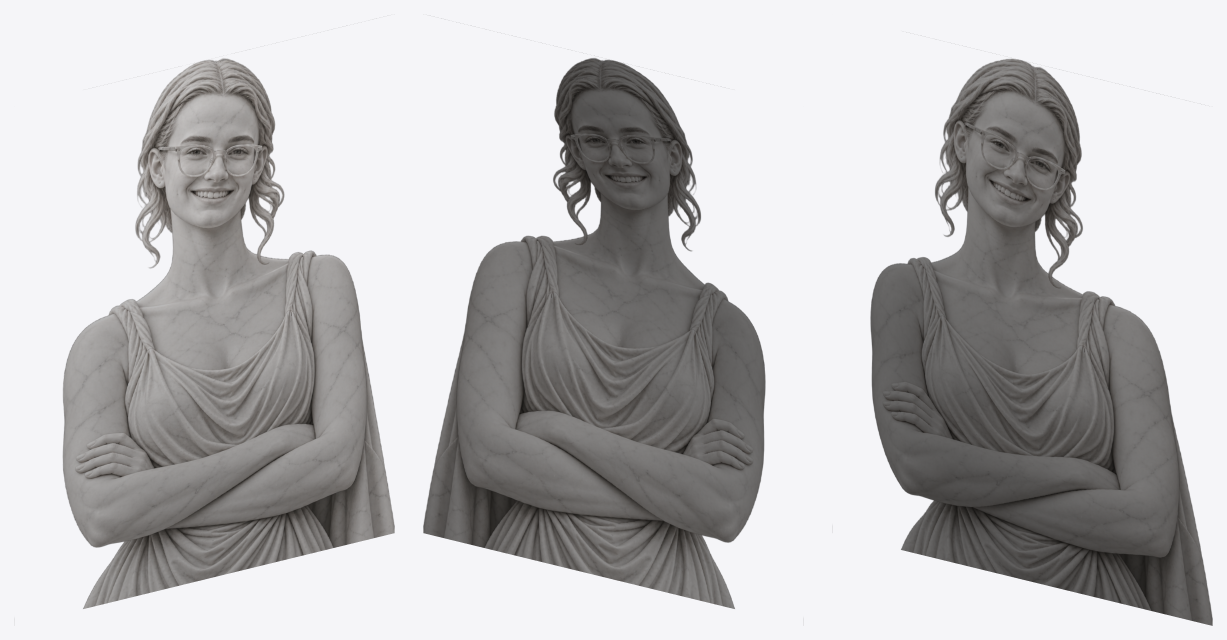
File: stefanos-statue-05.glb
3 views of the same model, side by side, from view 1: azimuth 30°, elevation 25°; view 2: azimuth 150°, elevation 25°; view 3: azimuth 330°, elevation 25° (orthographic).
Parts seen in each view (by area): view 1: body; view 2: body; view 3: body.
Boxes of the visible parts, x1,y1,x2,y2 form: body: (62, 58, 394, 608); body: (423, 58, 765, 608); body: (870, 58, 1212, 625).
Bounding box in the file's own units: 0.7357 × 0.96 × 0.051.
Materials: 1 (1 with a texture image).
